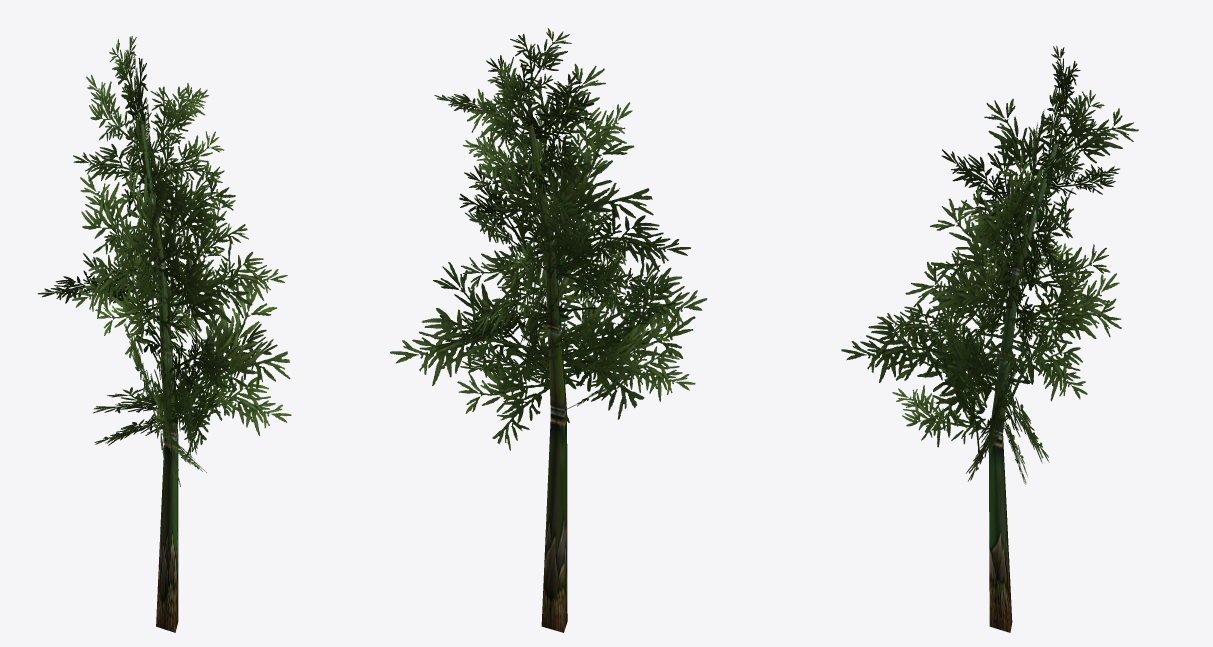
The model's file is qys_zhuzi02_LOD2.FBX.
3 views of the same model, side by side, from view 1: azimuth 30°, elevation 25°; view 2: azimuth 150°, elevation 25°; view 3: azimuth 270°, elevation 25° (orthographic). The views are drawn at different scales.
Visible parts, largest first — view 1: qys_zhuzi02_02_LOD2, qys_zhuzi02_01_LOD2; view 2: qys_zhuzi02_02_LOD2, qys_zhuzi02_01_LOD2; view 3: qys_zhuzi02_02_LOD2, qys_zhuzi02_01_LOD2.
Boxes of the visible parts, x1,y1,x2,y2 form: qys_zhuzi02_02_LOD2: (37, 36, 291, 486); qys_zhuzi02_01_LOD2: (139, 122, 178, 632); qys_zhuzi02_02_LOD2: (390, 28, 707, 450); qys_zhuzi02_01_LOD2: (526, 115, 567, 632); qys_zhuzi02_02_LOD2: (841, 45, 1138, 484); qys_zhuzi02_01_LOD2: (989, 142, 1058, 632).
Size of the model in its own units: 747 by 1418 by 866.
